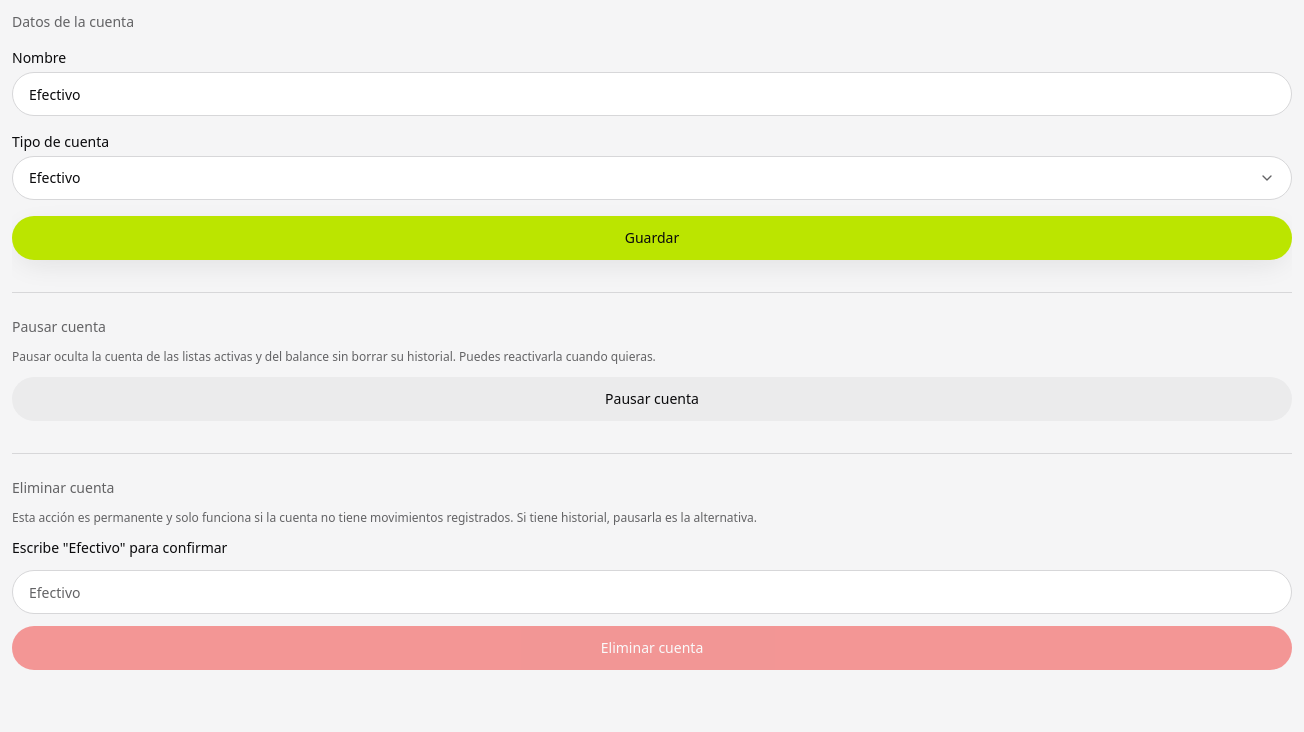
Test: EditAccountForm — delete (T4.9) › keeps the delete button disabled until the exact account name is typed
The width and height of the screenshot is (1304, 732).
Expected: the button "Eliminar cuenta" is disabled, x1=12 y1=626 x2=1292 y2=670
In the field labelled "Escribe \"Efectivo\" para confirmar": (652, 592) x1=12 y1=570 x2=1292 y2=614, type "wrong name"
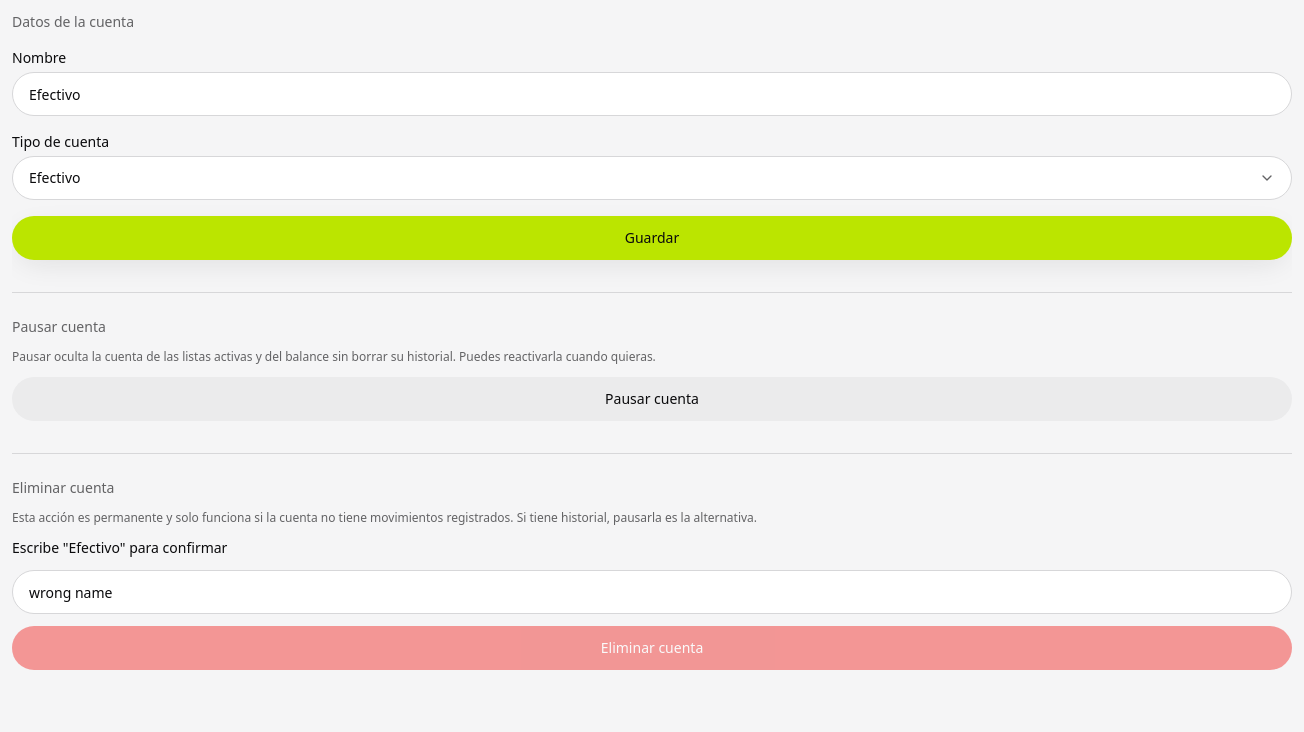
Expected: the button "Eliminar cuenta" is disabled, x1=12 y1=626 x2=1292 y2=670
Replace the text in the field labelled "Escribe \"Efectivo\" para confirmar" with "Efectivo": (652, 592) x1=12 y1=570 x2=1292 y2=614
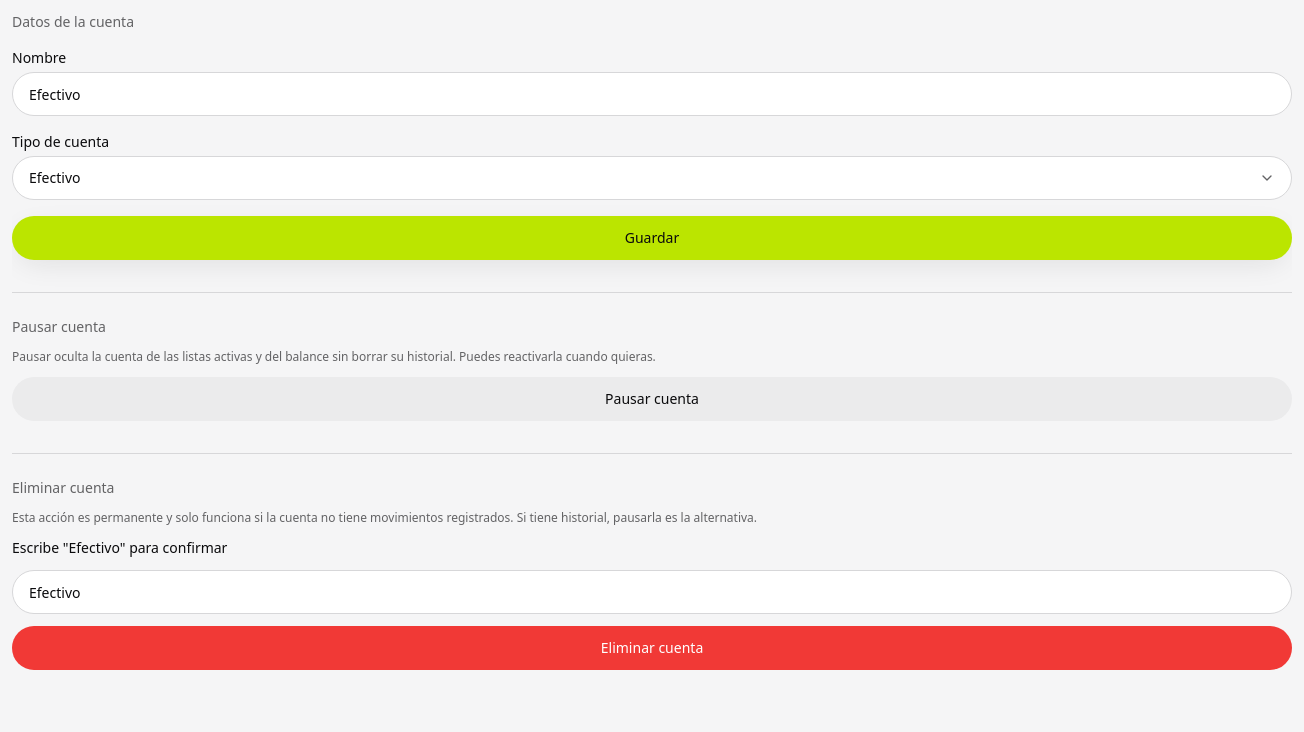
Expected: the button "Eliminar cuenta" is enabled, x1=12 y1=626 x2=1292 y2=670
